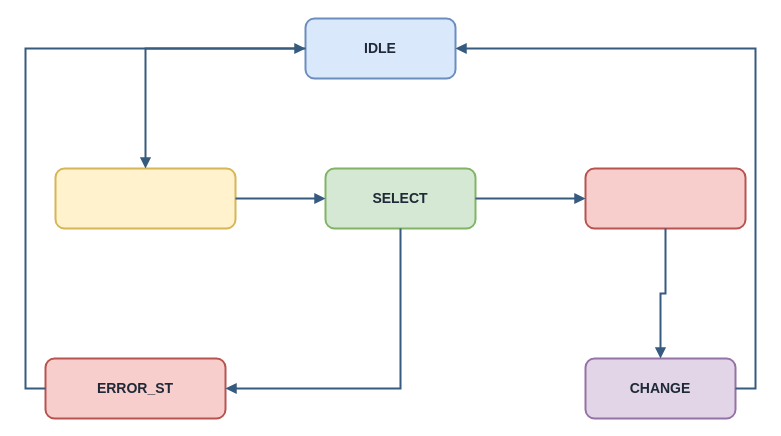
Some shapes in this 781 by 436 pixel diagram are drawn without their labels. The box of each missing label's shape, as (x1, y1, x2, y2) in pixels:
ACCUMULATE: (54, 167, 236, 229)
DISPENSE: (584, 167, 746, 229)
